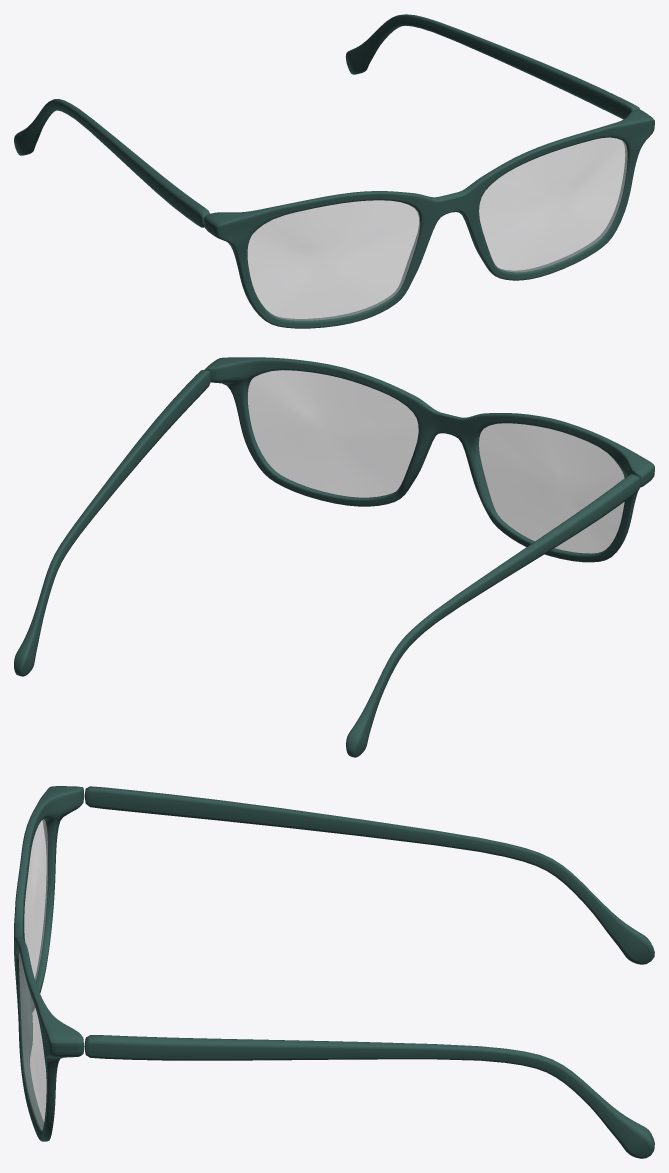
Rendered from Plastic_Blue.glb.
The picture shows the model from 3 angles, top to bottom: view 1: azimuth 30°, elevation 25°; view 2: azimuth 150°, elevation 25°; view 3: azimuth 270°, elevation 25°; orthographic projection. The views are drawn at different scales.
Parts seen in each view (by area): view 1: lens, frame, Left_Arm, Right_Arm; view 2: lens, frame, Right_Arm, Left_Arm; view 3: Left_Arm, Right_Arm, frame, lens.
Part boxes in pixels (box(x1,y1,x2,y2)): lens: box(247, 137, 627, 320); frame: box(204, 109, 654, 328); Left_Arm: box(345, 14, 640, 119); Right_Arm: box(14, 99, 209, 227); lens: box(247, 370, 624, 553); frame: box(204, 357, 654, 562); Right_Arm: box(346, 474, 640, 757); Left_Arm: box(14, 370, 210, 676); Left_Arm: box(84, 1035, 654, 1158); Right_Arm: box(84, 786, 654, 964); frame: box(14, 786, 83, 1141); lens: box(18, 819, 47, 1130).
Size of the model in its own units: 0.9803 by 0.2859 by 1.04.
